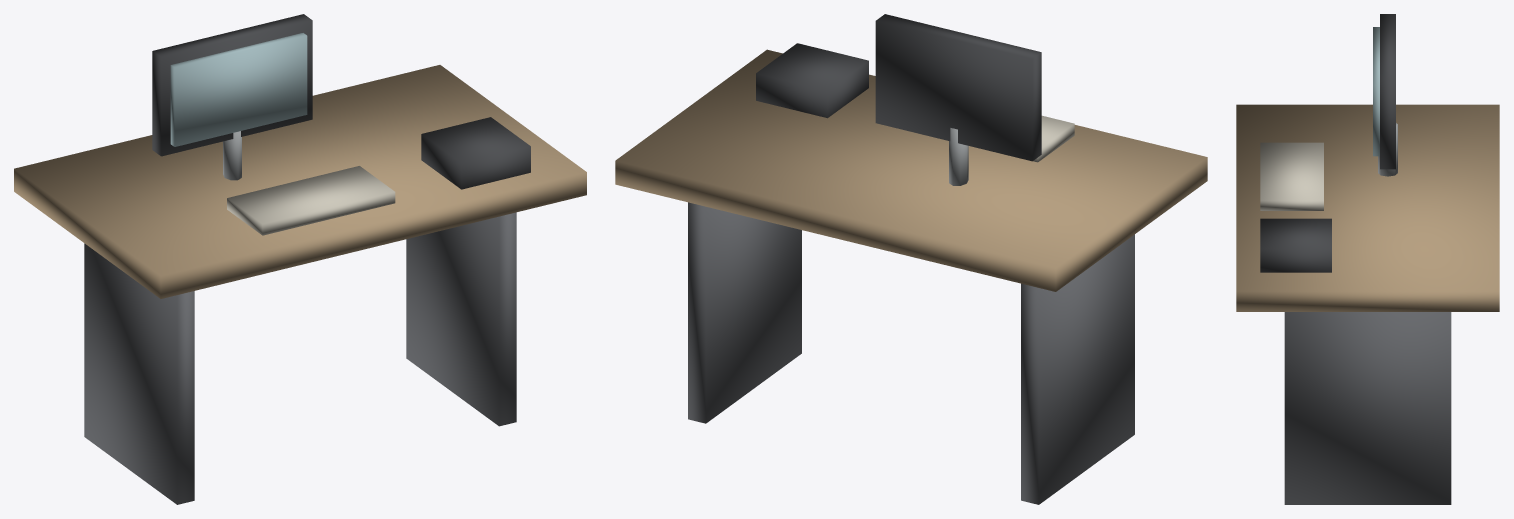
The model's file is modern_workstation__deep.glb.
3 renders of one model, left to right at view 1: azimuth 30°, elevation 25°; view 2: azimuth 150°, elevation 25°; view 3: azimuth 270°, elevation 25°, orthographic. The views are drawn at different scales.
Visible parts, largest first — view 1: world; view 2: world; view 3: world.
Boxes of the visible parts, <box> form: world: <box>14,14,586,504</box>; world: <box>615,14,1207,504</box>; world: <box>1236,14,1499,504</box>.
Bounding box in the file's own units: 1.35 × 1.21 × 0.8052.
